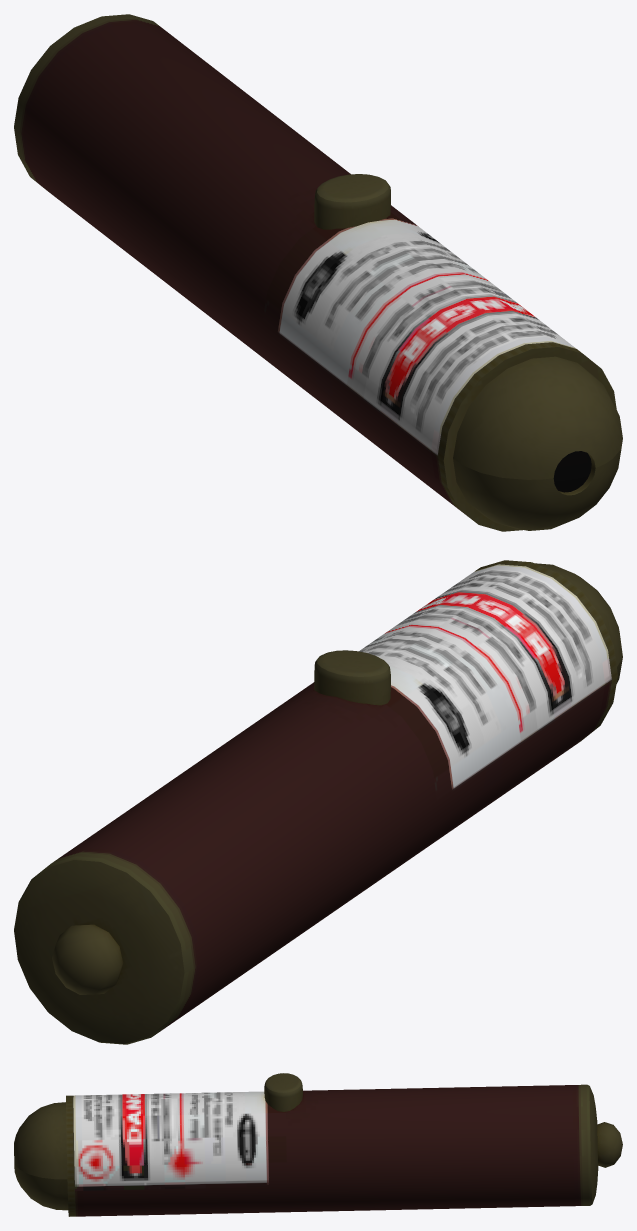
Rendered from ref_gtlaserpen.fbx.
The picture shows the model from 3 angles, top to bottom: view 1: azimuth 30°, elevation 25°; view 2: azimuth 150°, elevation 25°; view 3: azimuth 270°, elevation 25°; orthographic projection. The views are drawn at different scales.
Parts seen in each view (by area): view 1: ref_gtlaserpen; view 2: ref_gtlaserpen; view 3: ref_gtlaserpen.
Boxes of the visible parts, x1,y1,x2,y2 form: ref_gtlaserpen: (14,14,622,531); ref_gtlaserpen: (14,560,622,1044); ref_gtlaserpen: (14,1073,622,1216).
Bounding box in the file's own units: 20.05 × 23.57 × 100.
Materials: 1 (1 with a texture image).
